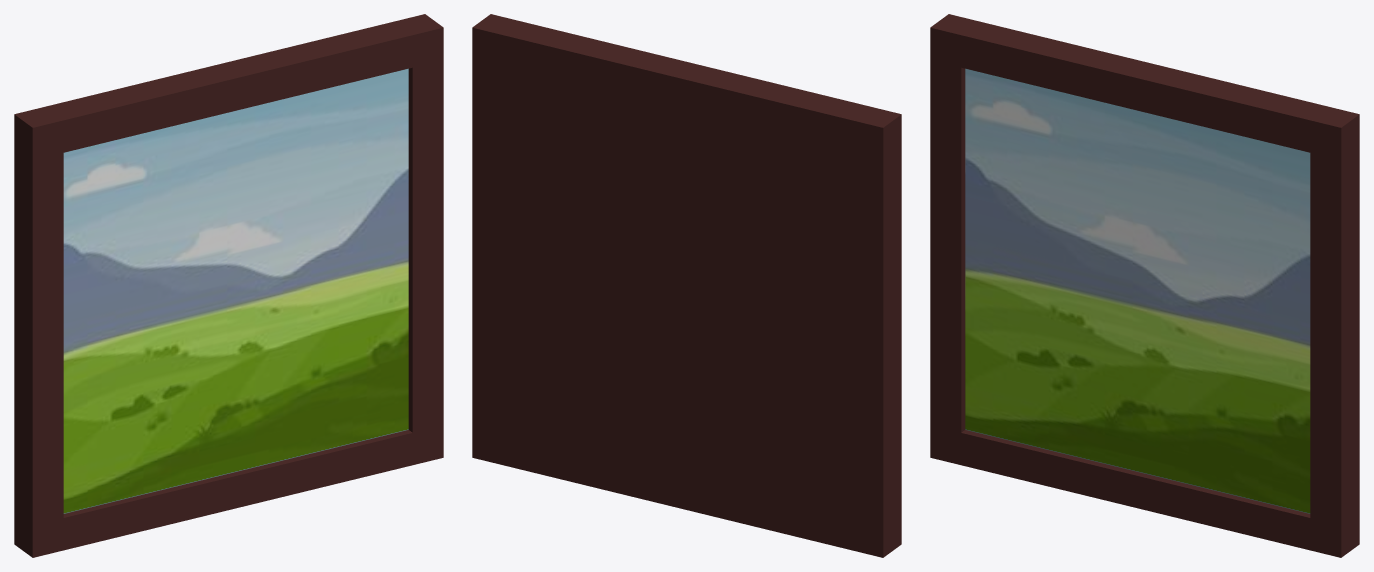
The model's file is painting.fbx.
3 renders of one model, left to right at view 1: azimuth 30°, elevation 25°; view 2: azimuth 150°, elevation 25°; view 3: azimuth 330°, elevation 25°, orthographic.
Parts seen in each view (by area): view 1: Painting; view 2: Painting; view 3: Painting.
Part boxes in pixels (<box>): Painting: <box>14,14,443,557</box>; Painting: <box>472,14,901,557</box>; Painting: <box>930,14,1359,557</box>.
Bounding box in the file's own units: 200 × 200 × 15.7.
2 materials, 1 textured.
